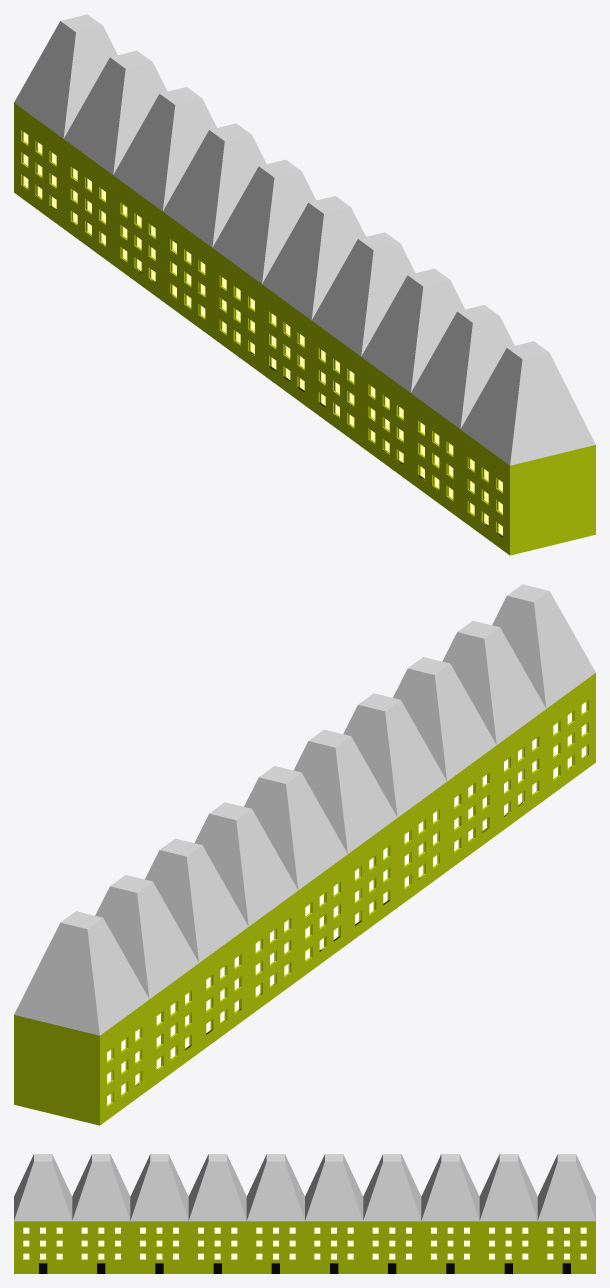
The model's file is 3_storey_house_1.fbx.
3 renders of one model, top to bottom at view 1: azimuth 30°, elevation 25°; view 2: azimuth 150°, elevation 25°; view 3: azimuth 270°, elevation 25°, orthographic. The views are drawn at different scales.
Visible parts, largest first — view 1: Cube; view 2: Cube; view 3: Cube.
Part boxes in pixels (bbox=[...]): Cube: bbox=[14, 14, 595, 555]; Cube: bbox=[14, 584, 595, 1125]; Cube: bbox=[14, 1154, 595, 1273].
Bounding box in the file's own units: 28 × 55.07 × 280.
